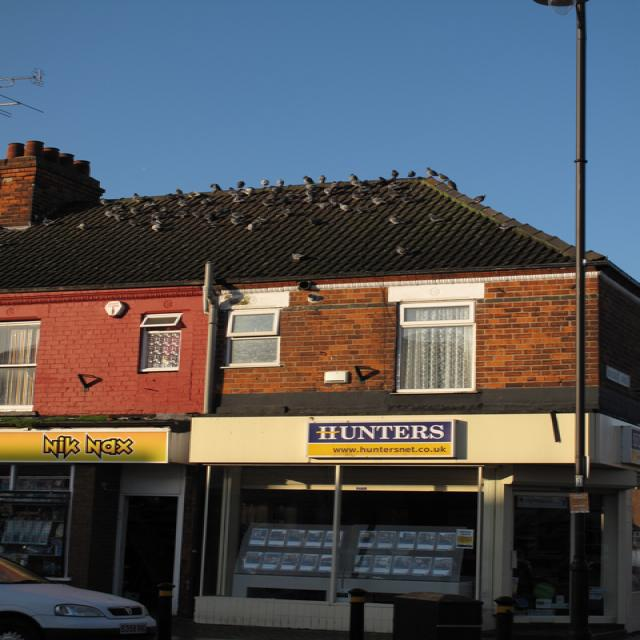bird: (245, 217, 267, 232), (386, 169, 399, 183), (308, 217, 326, 227), (348, 173, 361, 186), (371, 196, 385, 206), (425, 167, 437, 178), (354, 205, 368, 214), (302, 175, 314, 185), (242, 186, 254, 196), (210, 183, 223, 192), (317, 174, 328, 184), (235, 180, 246, 189), (260, 179, 270, 188), (407, 170, 417, 178), (276, 179, 284, 188)
